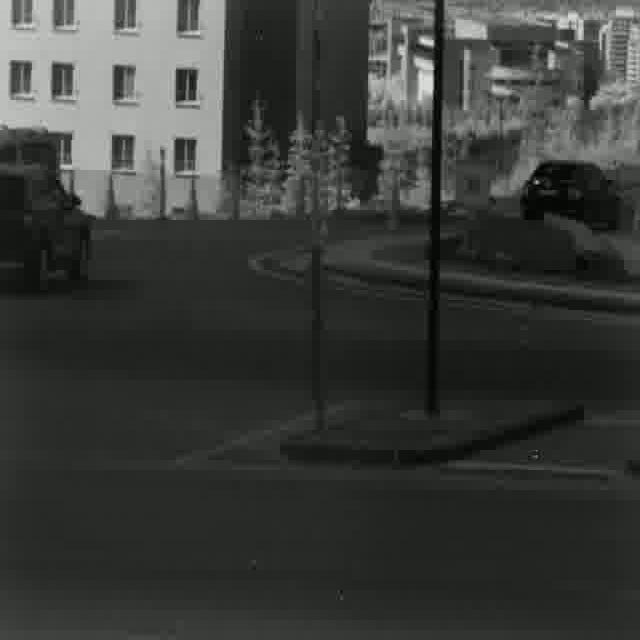Car: (1, 124, 96, 287), (518, 156, 620, 228)
